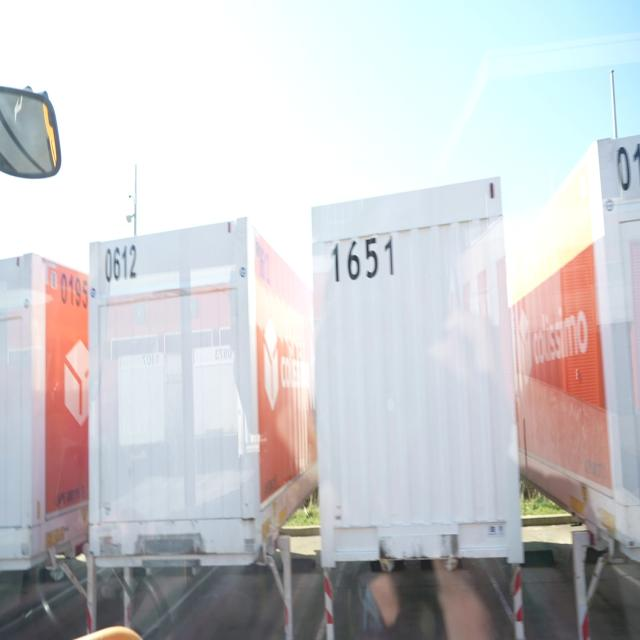Code: (327, 228, 398, 290), (97, 237, 142, 289), (58, 266, 90, 312)
